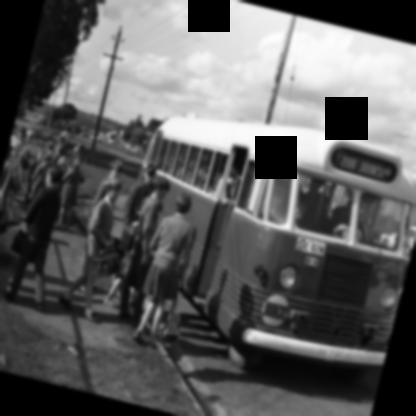backpack: (118, 223, 138, 253)
handbag: (2, 163, 21, 228), (162, 283, 180, 346), (91, 248, 120, 278), (11, 228, 34, 265)
suitcase: (92, 245, 124, 277)
